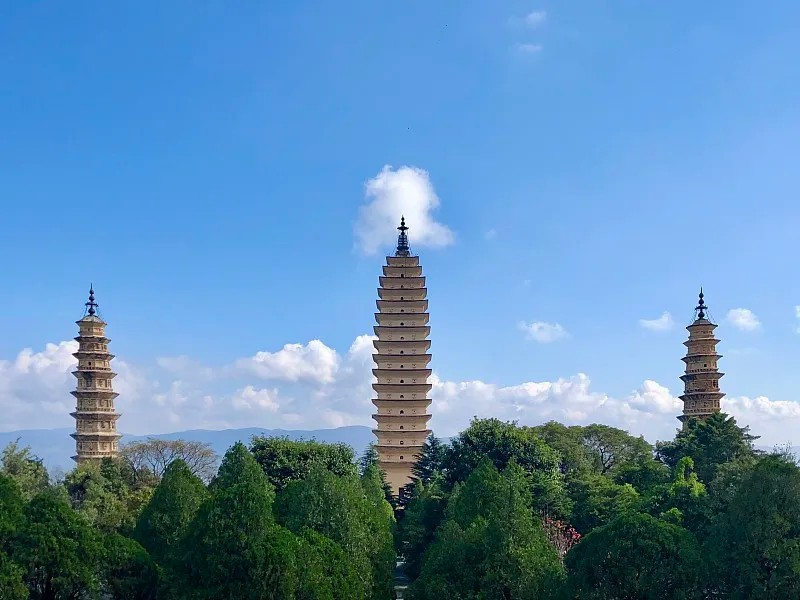ThreePagoda: (372, 215, 432, 500)
